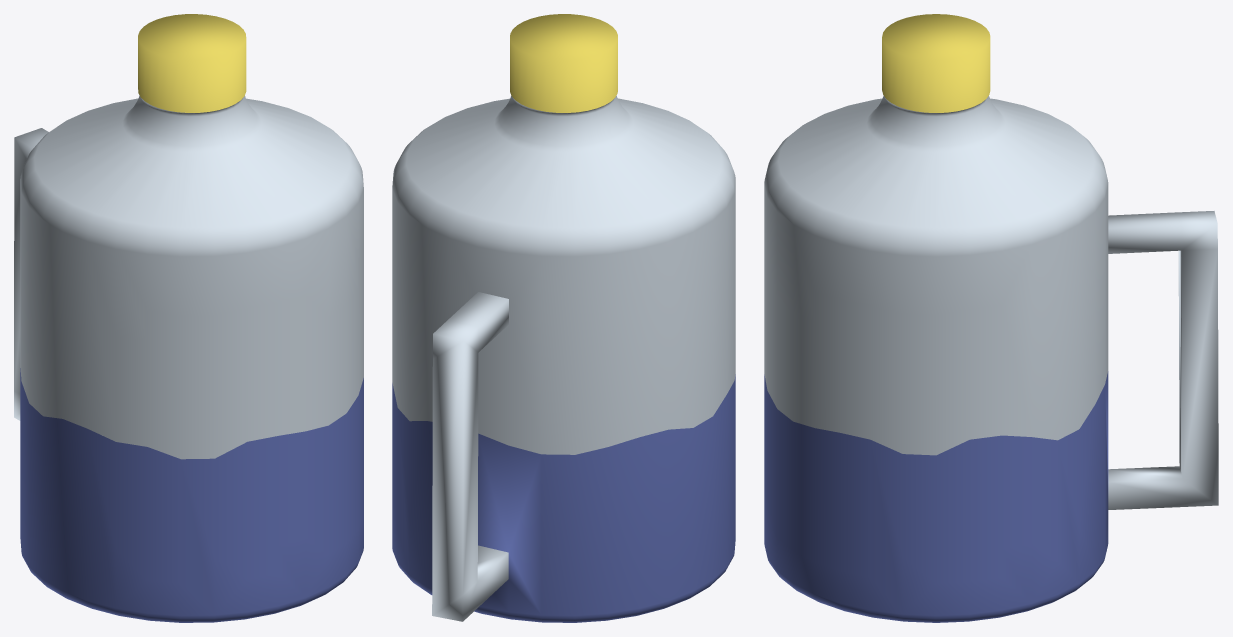
Rendered from eau.gltf.
3 renders of one model, left to right at view 1: azimuth 30°, elevation 25°; view 2: azimuth 150°, elevation 25°; view 3: azimuth 270°, elevation 25°, orthographic.
Visible parts, largest first — view 1: Cube.002; view 2: Cube.002; view 3: Cube.002.
Part boxes in pixels (x1,y1,x2,y2): Cube.002: (14,14,363,622); Cube.002: (392,14,735,622); Cube.002: (764,14,1218,622).
Size of the model in its own units: 1.46 by 2.42 by 1.92.
